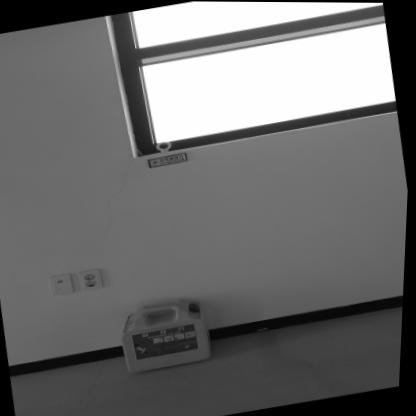DDL: (122, 295, 219, 373)
